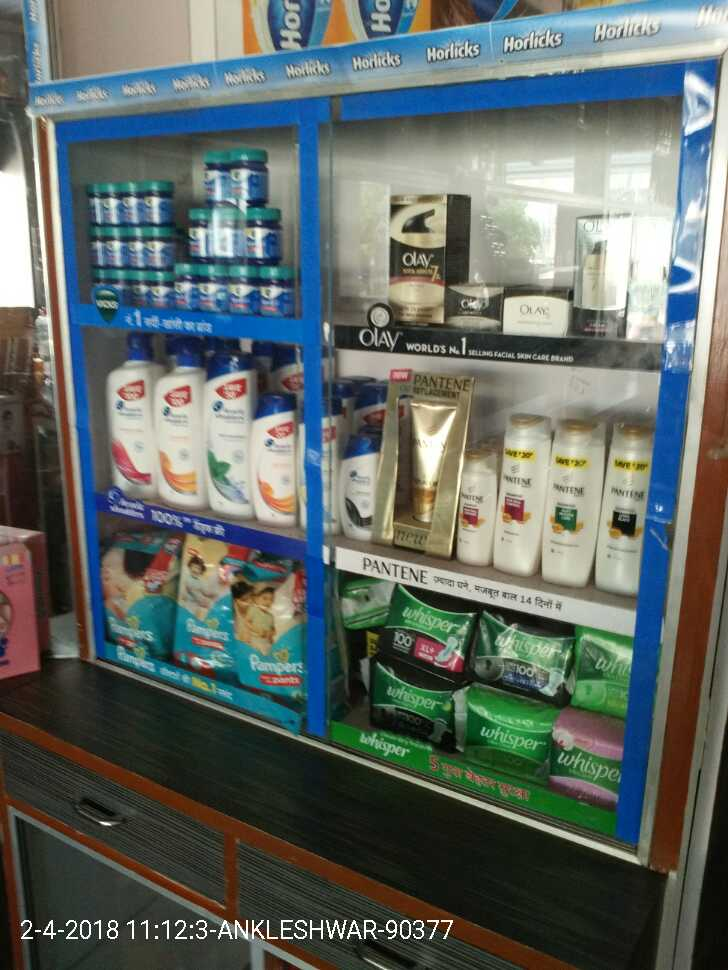vicks: (257, 265, 296, 319), (243, 207, 280, 261), (211, 203, 244, 262), (232, 148, 265, 204), (203, 145, 232, 204), (228, 270, 257, 319), (143, 179, 172, 223), (187, 208, 210, 262), (147, 228, 177, 267), (199, 270, 226, 311), (103, 227, 129, 263), (82, 180, 103, 222), (149, 270, 173, 306), (103, 181, 124, 222), (124, 181, 143, 223), (131, 271, 148, 306), (128, 228, 143, 266), (89, 227, 103, 262)
